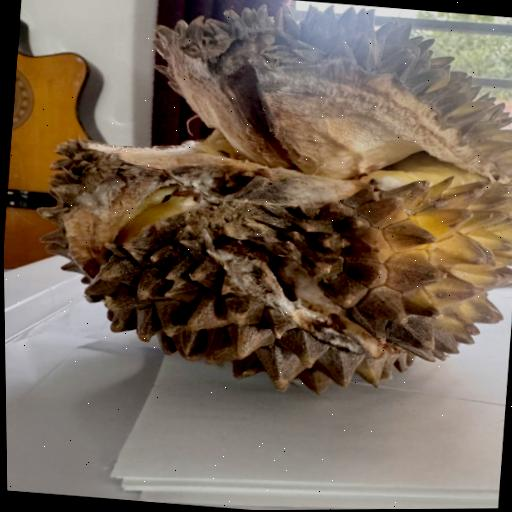rot: (8, 0, 512, 422)
